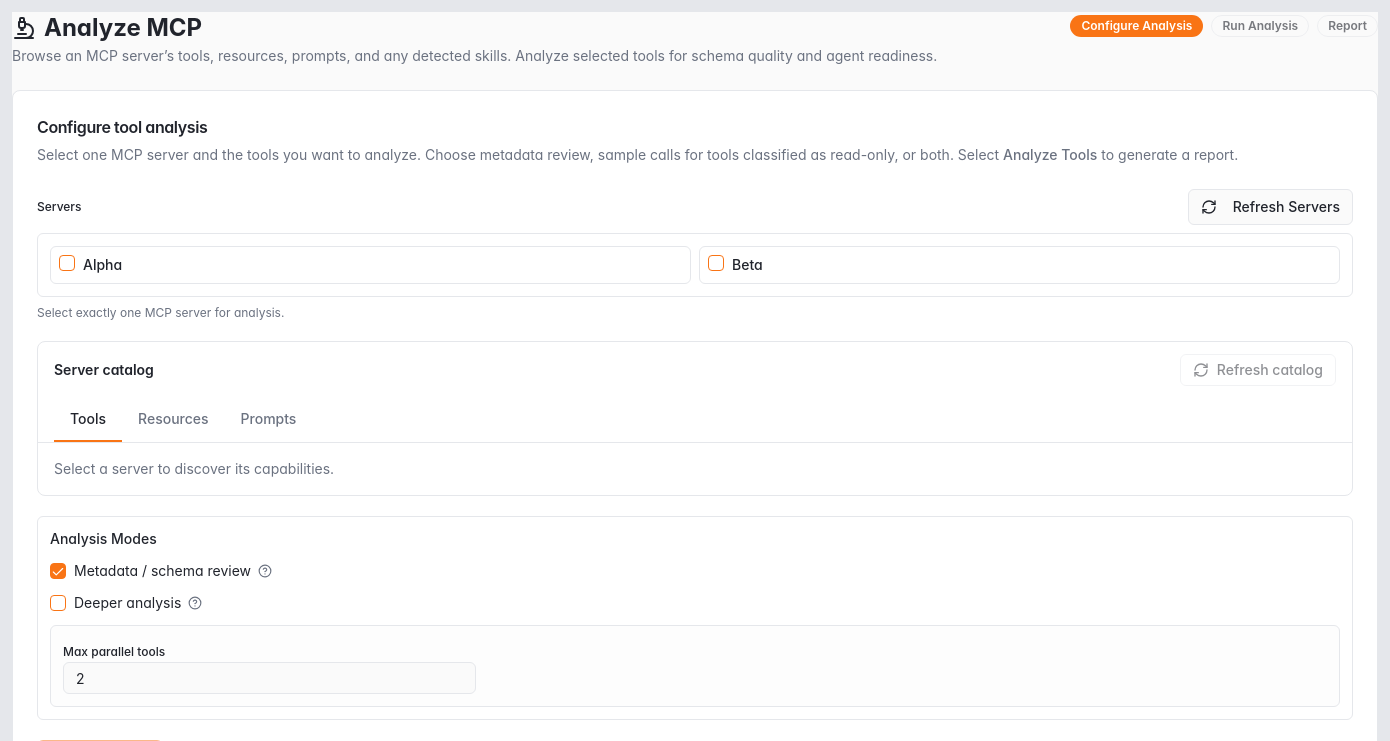
Test case: Analyze MCP catalog › offers direct copy and download actions and preserves selection after browsing prompts
Later steps or results of the test are not shown.
Step 1. Click the checkbox named "Alpha" next to "Alpha" → (67, 263), box 59,255 -> 75,271
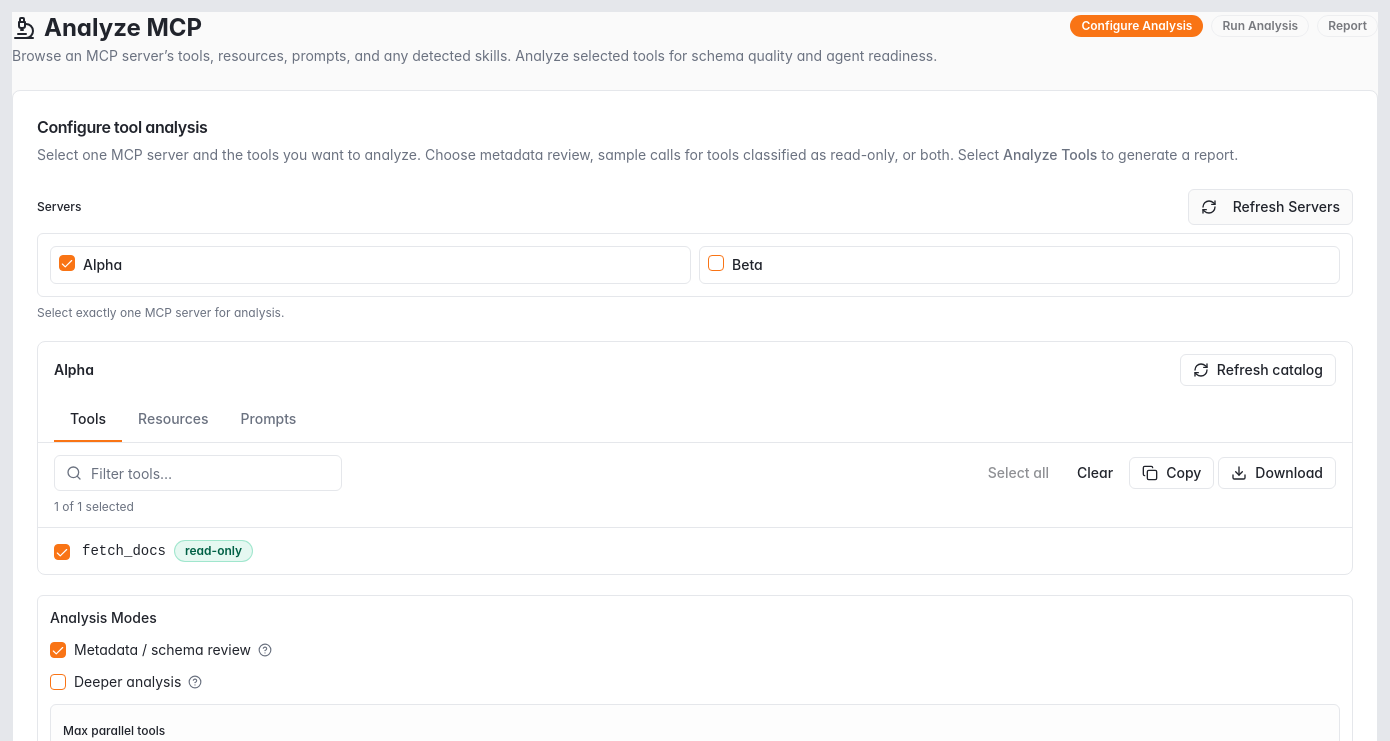
Expected: the text "fetch_docs" is shown, 82,541 -> 166,561
Step 2. Press Enter in the tab "Prompts", box 224,398 -> 312,442
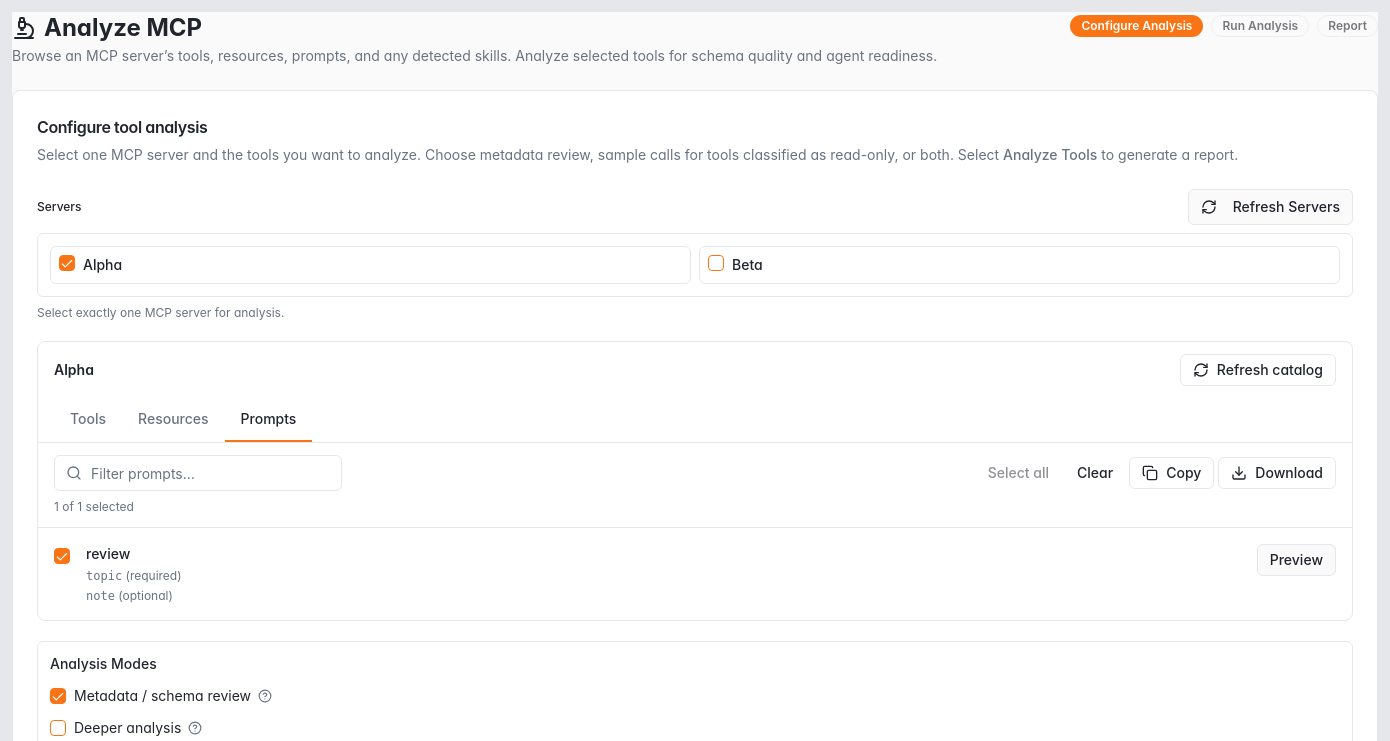
Step 3. Press Enter in the tab "Tools", box 54,398 -> 122,442
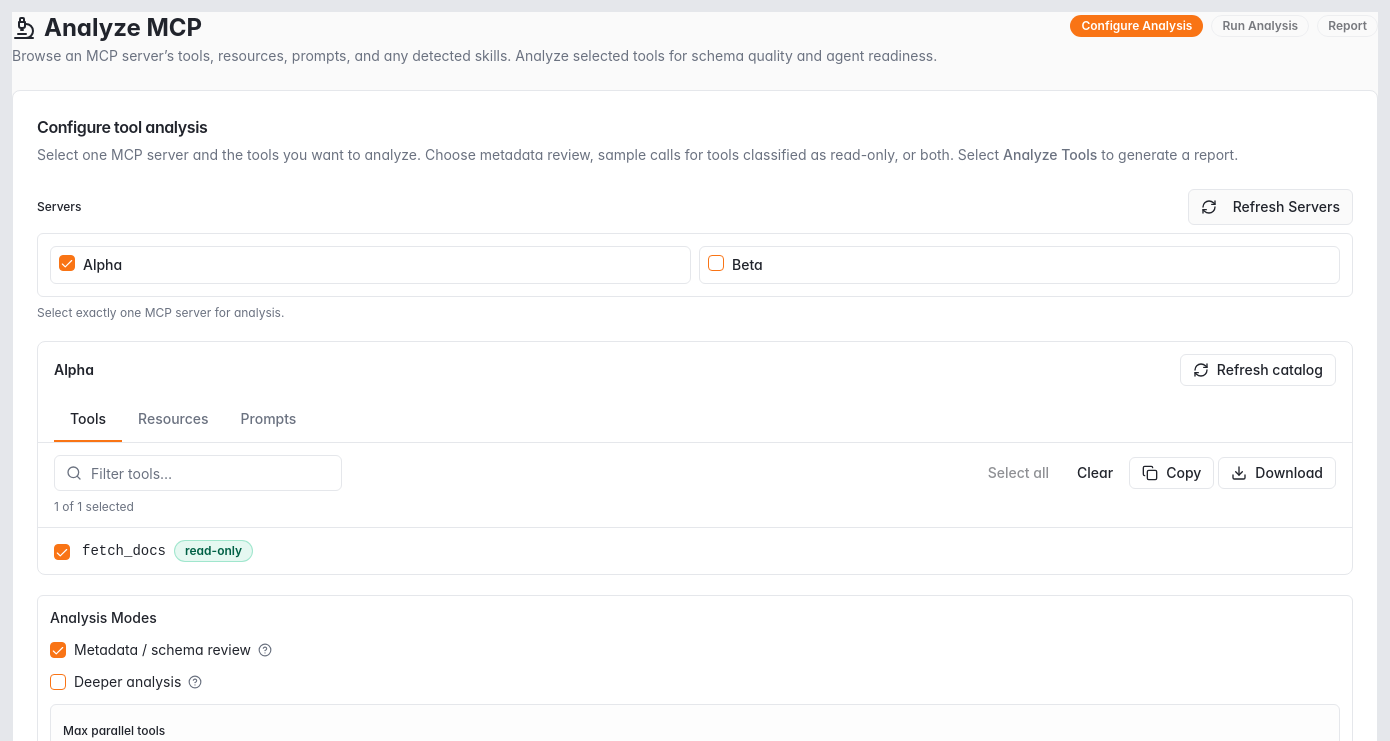
Expected: the checkbox named "fetch_docs" next to "fetch_docs" is checked, 54,544 -> 70,560
